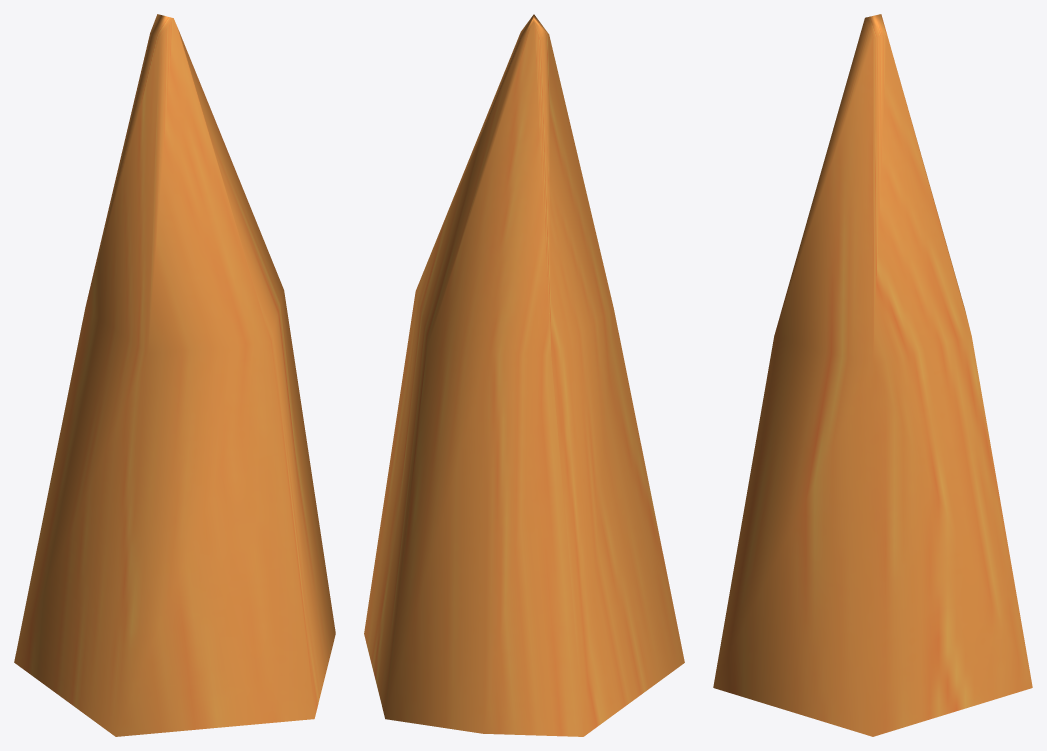
Rendered from Prop_small_tooh_01.fbx.
3 renders of one model, left to right at view 1: azimuth 30°, elevation 25°; view 2: azimuth 150°, elevation 25°; view 3: azimuth 270°, elevation 25°, orthographic. The views are drawn at different scales.
Parts seen in each view (by area): view 1: Prop_small_tooh_01; view 2: Prop_small_tooh_01; view 3: Prop_small_tooh_01.
Part boxes in pixels (bbox=[...]): Prop_small_tooh_01: bbox=[14, 14, 335, 736]; Prop_small_tooh_01: bbox=[364, 14, 684, 736]; Prop_small_tooh_01: bbox=[713, 14, 1032, 736].
Size of the model in its own units: 23.78 by 55.28 by 25.
Materials: 1 (1 with a texture image).
